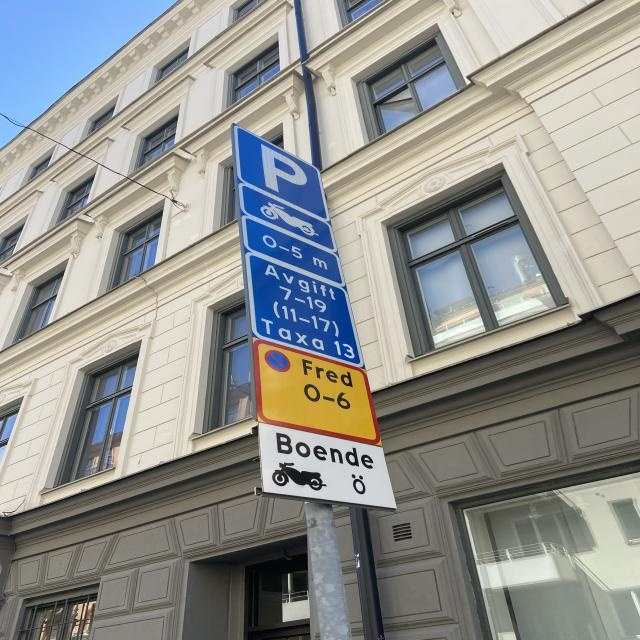P-skylt: (235, 124, 333, 222)
